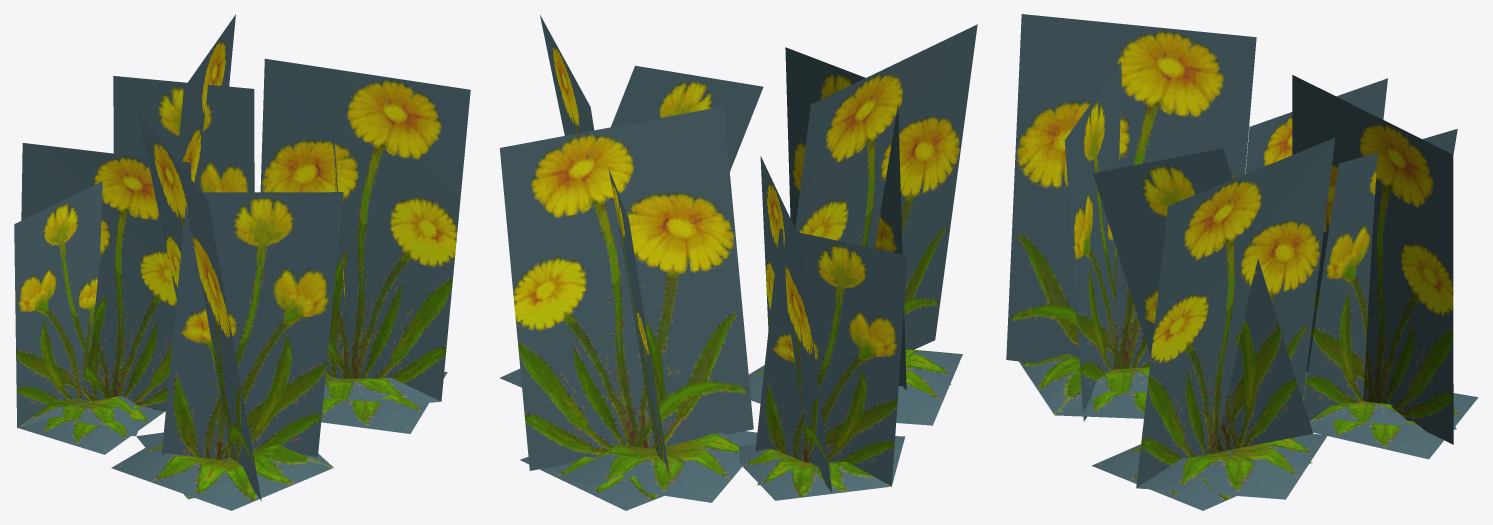
The model's file is 4006_Item_hua_2.FBX.
The picture shows the model from 3 angles, left to right: view 1: azimuth 30°, elevation 25°; view 2: azimuth 150°, elevation 25°; view 3: azimuth 270°, elevation 25°; orthographic projection. The views are drawn at different scales.
Visible parts, largest first — view 1: 4006_Item_hua_2; view 2: 4006_Item_hua_2; view 3: 4006_Item_hua_2.
Part boxes in pixels (box(x1,y1,x2,y2)): 4006_Item_hua_2: box(14, 14, 470, 510); 4006_Item_hua_2: box(499, 15, 977, 510); 4006_Item_hua_2: box(1006, 14, 1478, 510).
Size of the model in its own units: 123 by 94.85 by 121.
